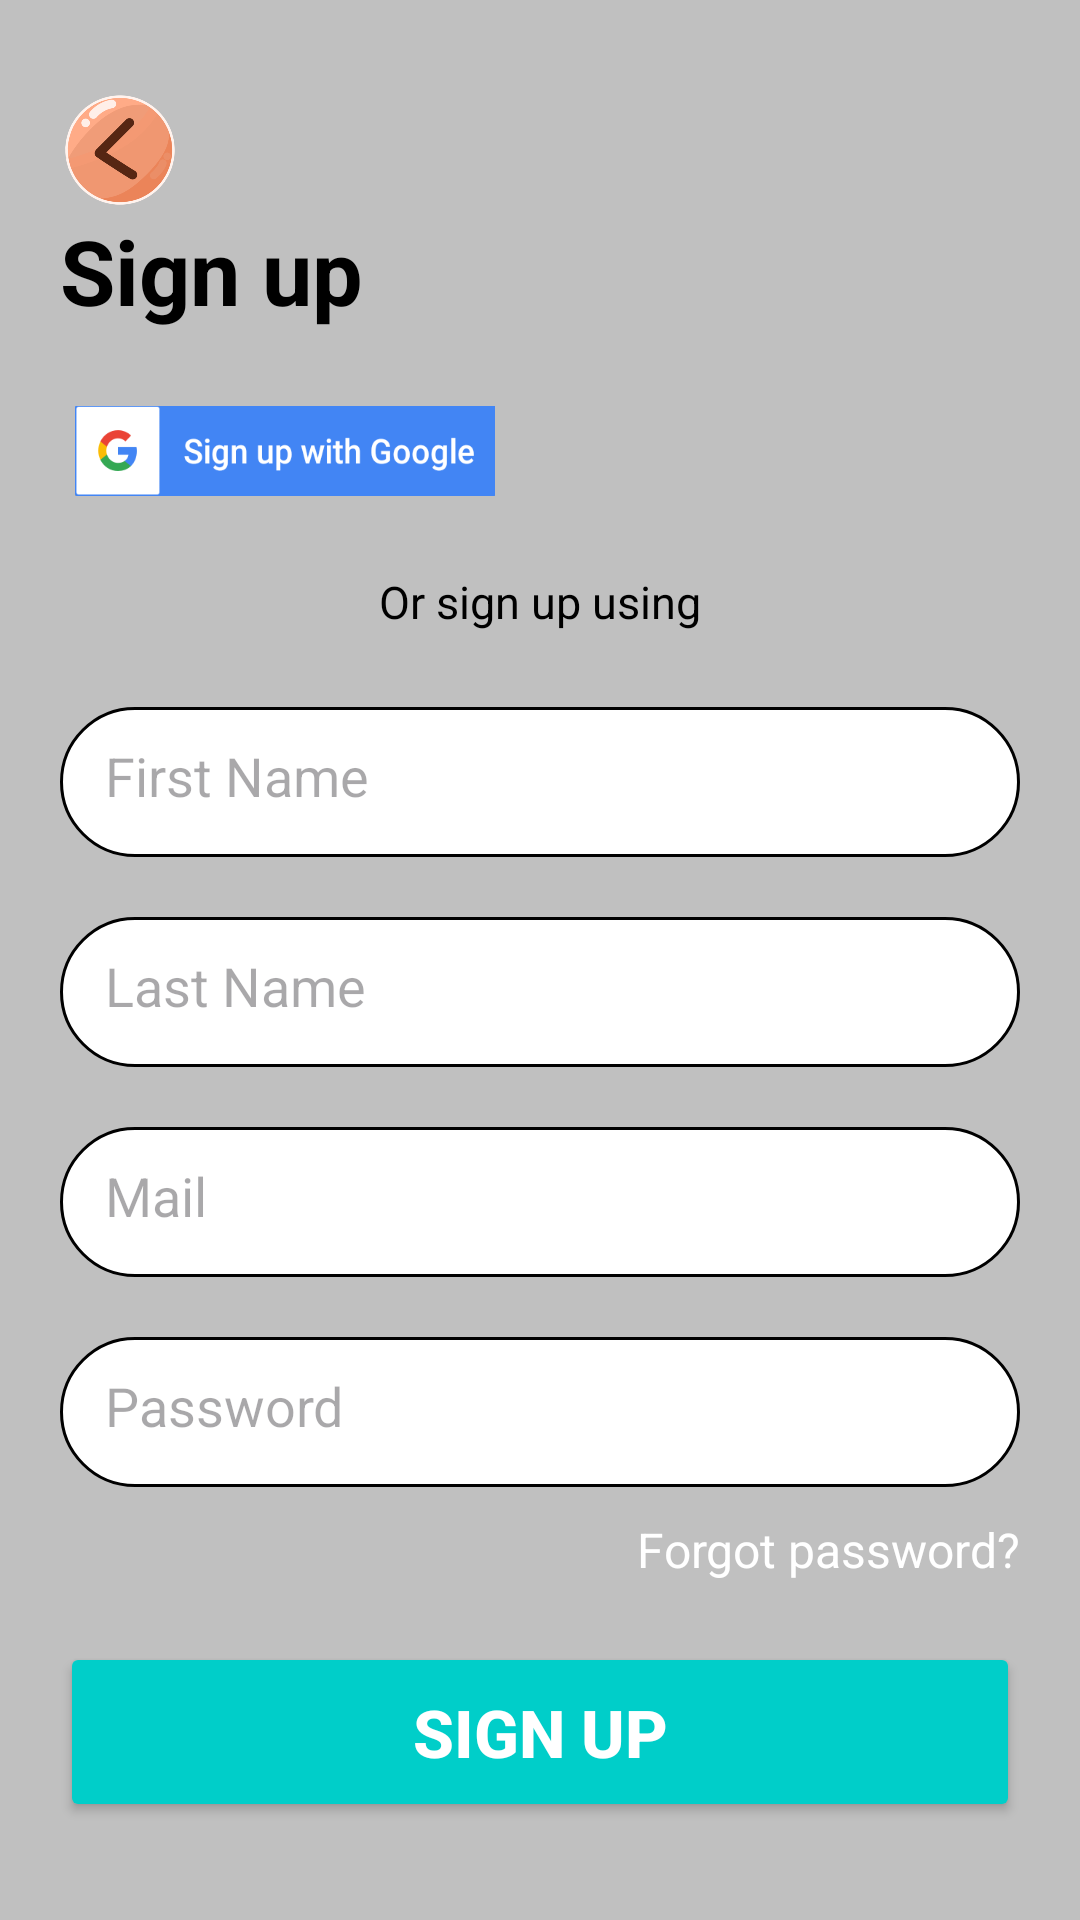

Where icons sit on this 1080*1920 app screen, as (x1, y1, x2, y2):
btnbach: (65, 95, 175, 205)
